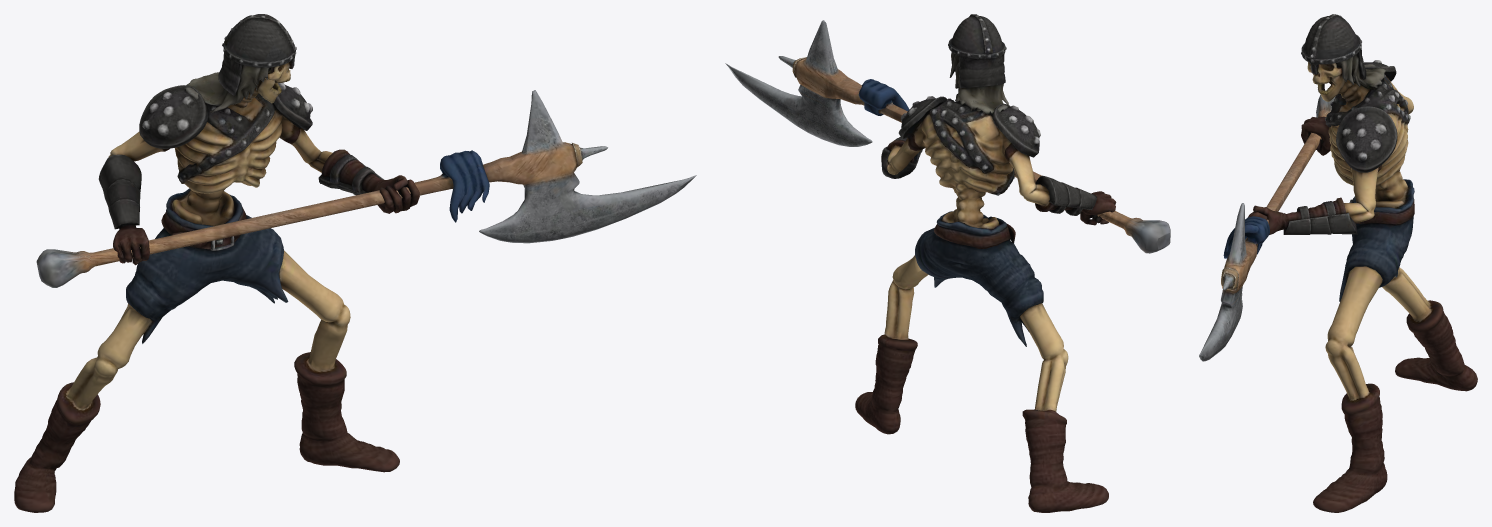
The model's file is MZ4250 - Skeleton Spearman_warrioraxe.glb.
3 renders of one model, left to right at view 1: azimuth 30°, elevation 25°; view 2: azimuth 150°, elevation 25°; view 3: azimuth 270°, elevation 25°, orthographic. The views are drawn at different scales.
Parts seen in each view (by area): view 1: Skeleton Spearman_no weap.001; view 2: Skeleton Spearman_no weap.001; view 3: Skeleton Spearman_no weap.001.
Part boxes in pixels (x1,y1,x2,y2): Skeleton Spearman_no weap.001: [14, 14, 696, 512]; Skeleton Spearman_no weap.001: [725, 14, 1170, 512]; Skeleton Spearman_no weap.001: [1199, 14, 1477, 512].
Bounding box in the file's own units: 41.47 × 32.65 × 18.83.
Materials: 2 (2 with a texture image).
